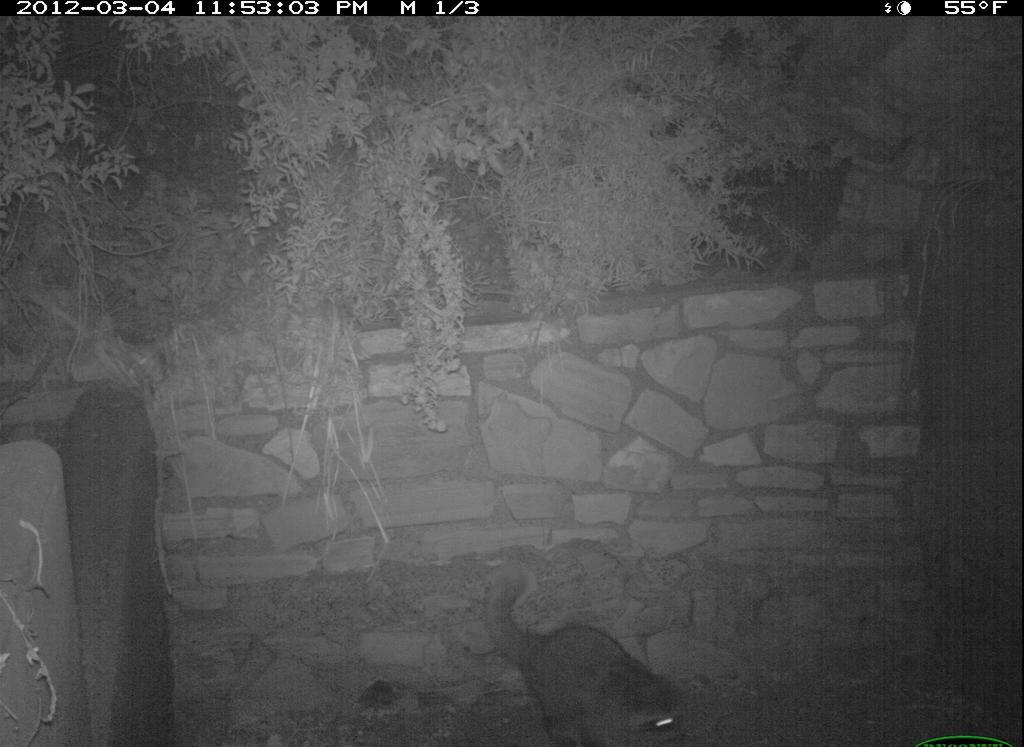raccoon: (474, 570, 690, 742)
